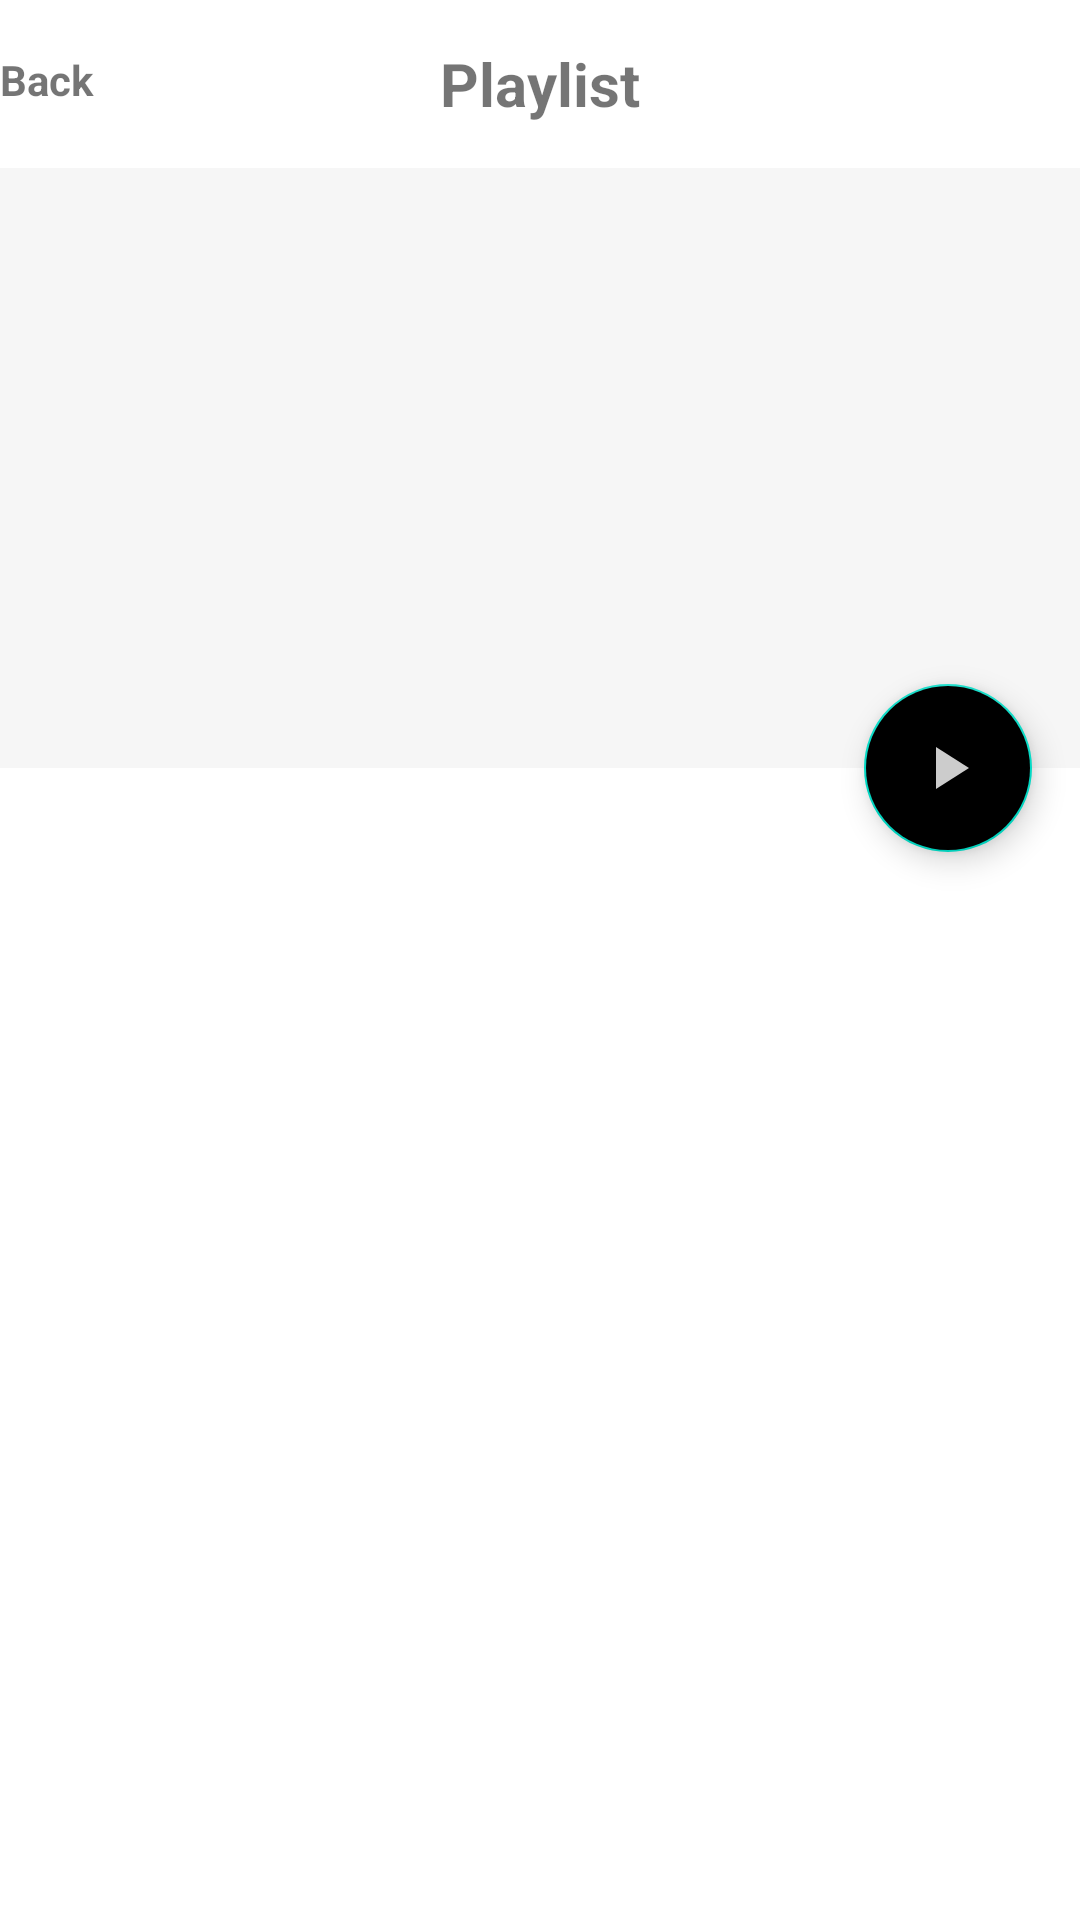

Where icons sit on this 1080x1920 app screen, as region(x1, y1, x2, y2):
play: region(864, 684, 1032, 852)
